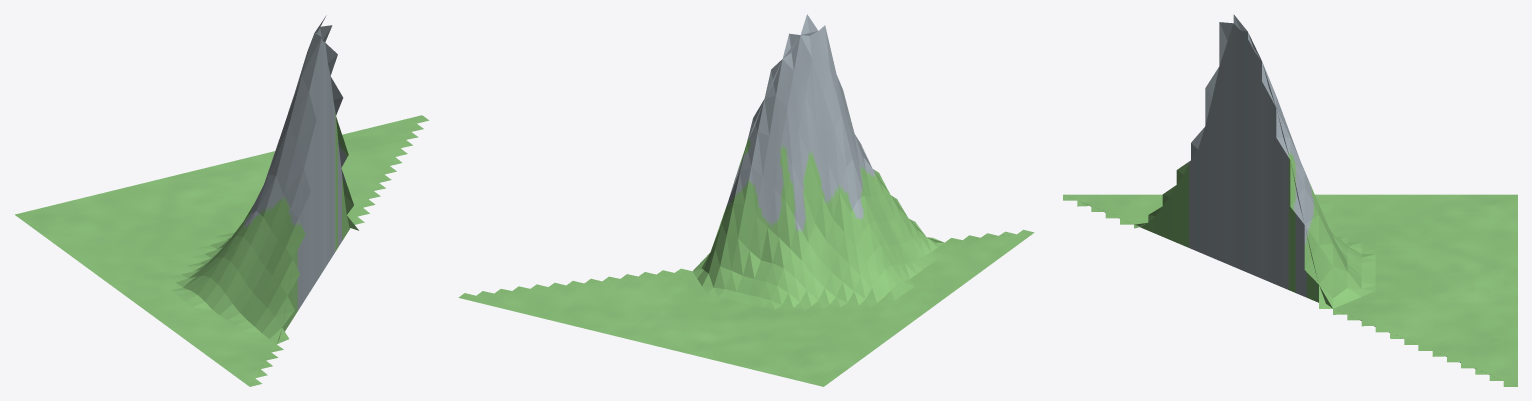
The model's file is Grass_RockyMountains_10_SW.obj.
The picture shows the model from 3 angles, left to right: view 1: azimuth 30°, elevation 25°; view 2: azimuth 150°, elevation 25°; view 3: azimuth 270°, elevation 25°; orthographic projection. The views are drawn at different scales.
Bounding box in the file's own units: 10 × 6.28 × 10.
Materials: 1 (1 with a texture image).
